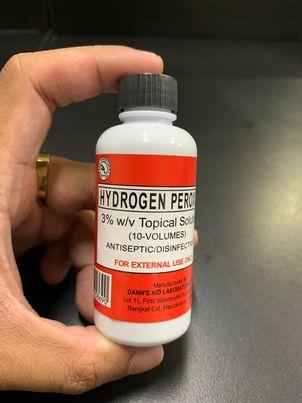-Bottle-: (94, 72, 198, 347)
